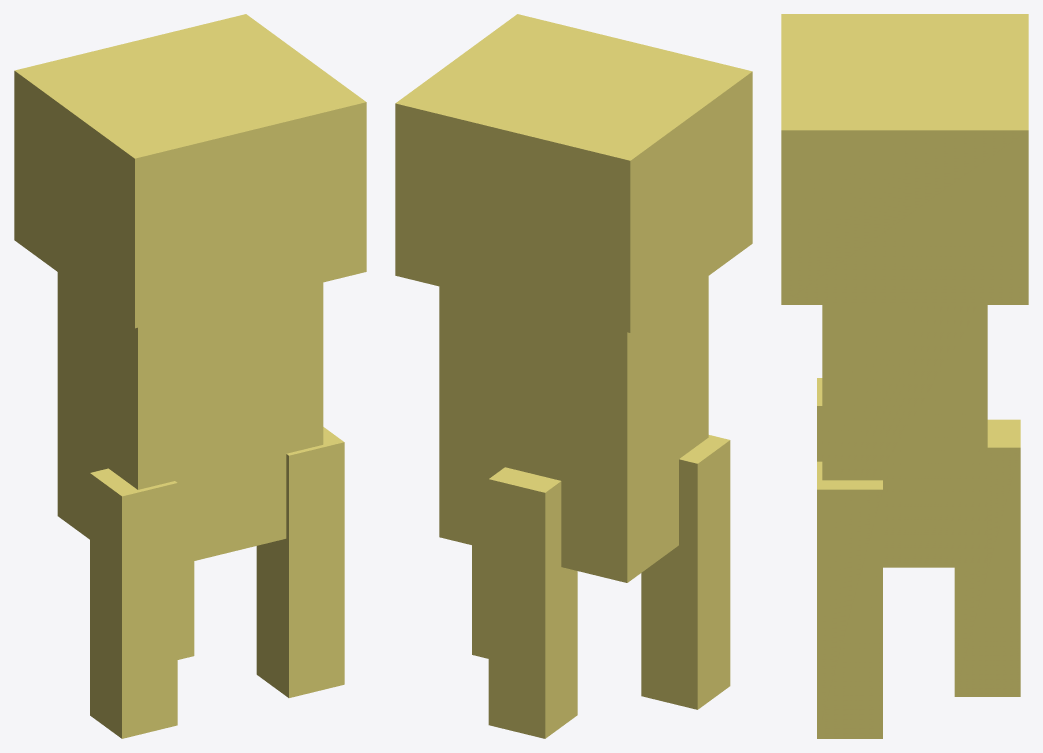
The model's file is alien-enemy.glb.
3 renders of one model, left to right at view 1: azimuth 30°, elevation 25°; view 2: azimuth 150°, elevation 25°; view 3: azimuth 270°, elevation 25°, orthographic. The views are drawn at different scales.
Parts seen in each view (by area): view 1: Root; view 2: Root; view 3: Root.
Boxes of the visible parts, bbox=[...] form: Root: bbox=[14, 14, 366, 738]; Root: bbox=[395, 14, 752, 738]; Root: bbox=[781, 14, 1028, 738].
Size of the model in its own units: 0.5 by 1.23 by 0.45.
